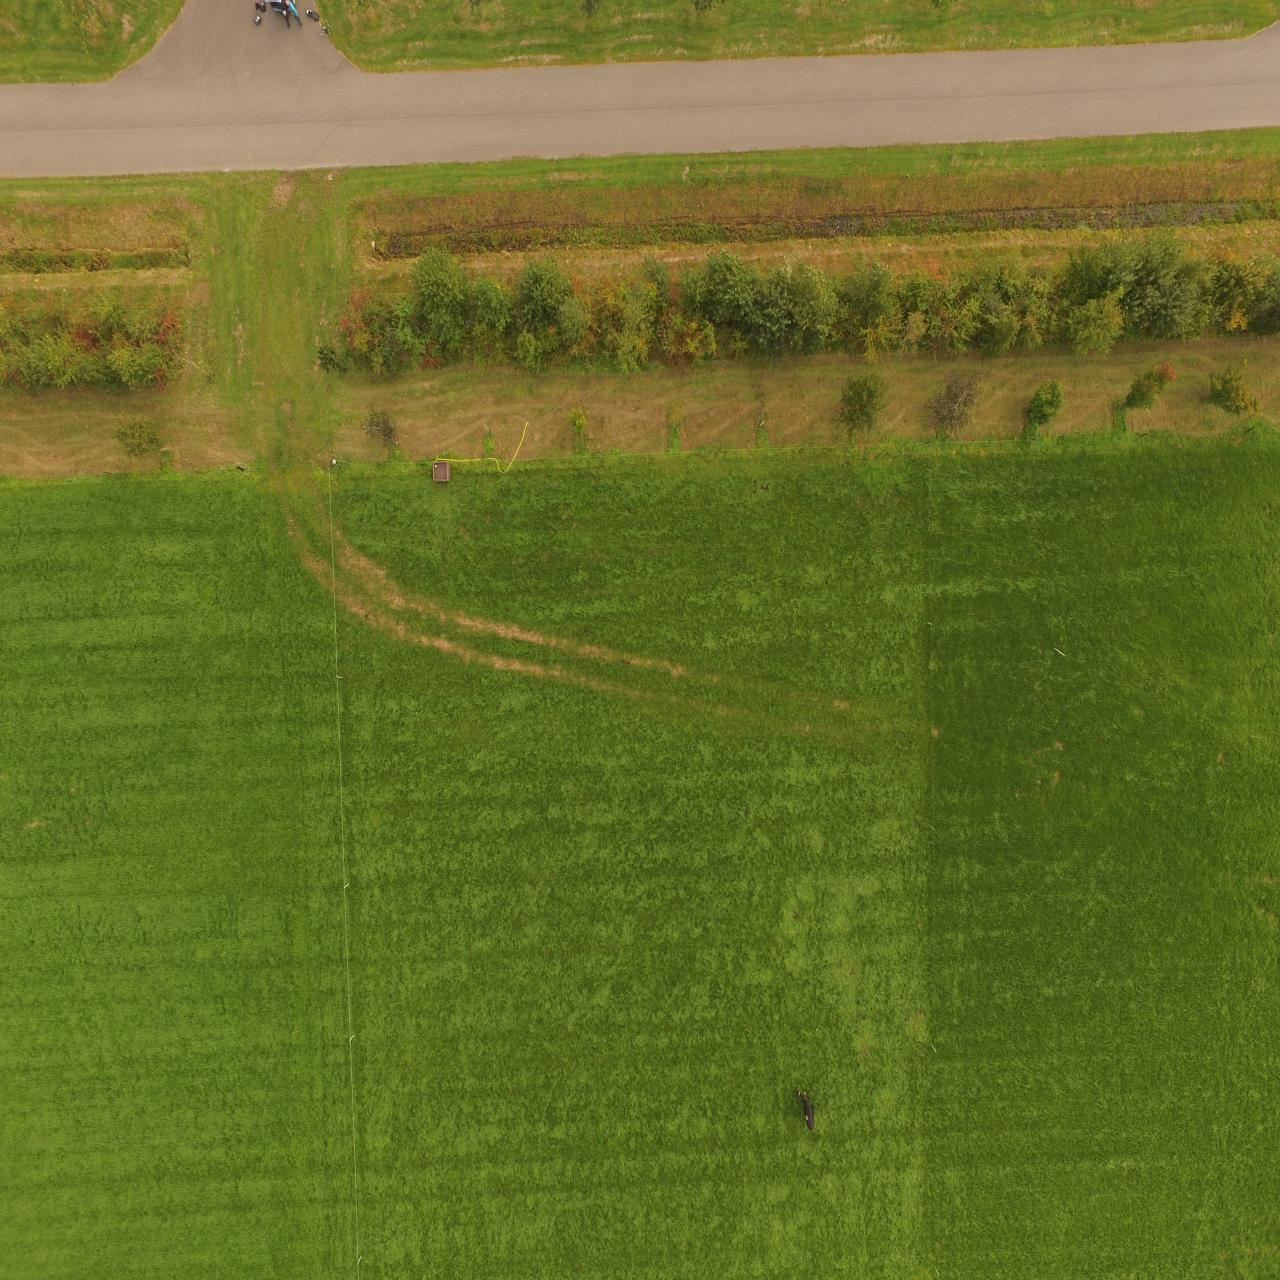cow: (794, 1088, 819, 1130)
